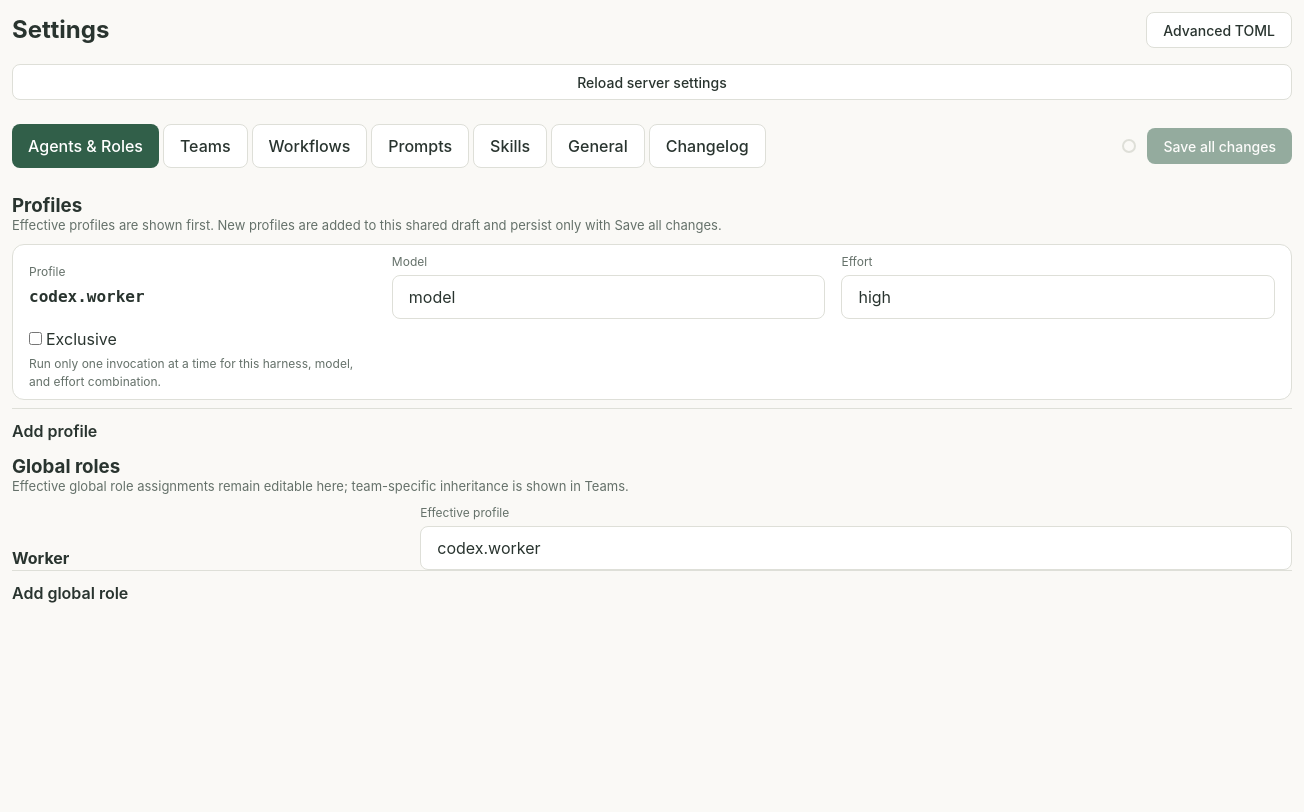
Test: GlobalSettings › keeps an unsaved zero visible across workflow selection and preview refresh
This screenshot has width=1304, height=812.
Click the tab "Workflows": (309,146) 252,124 -> 367,168
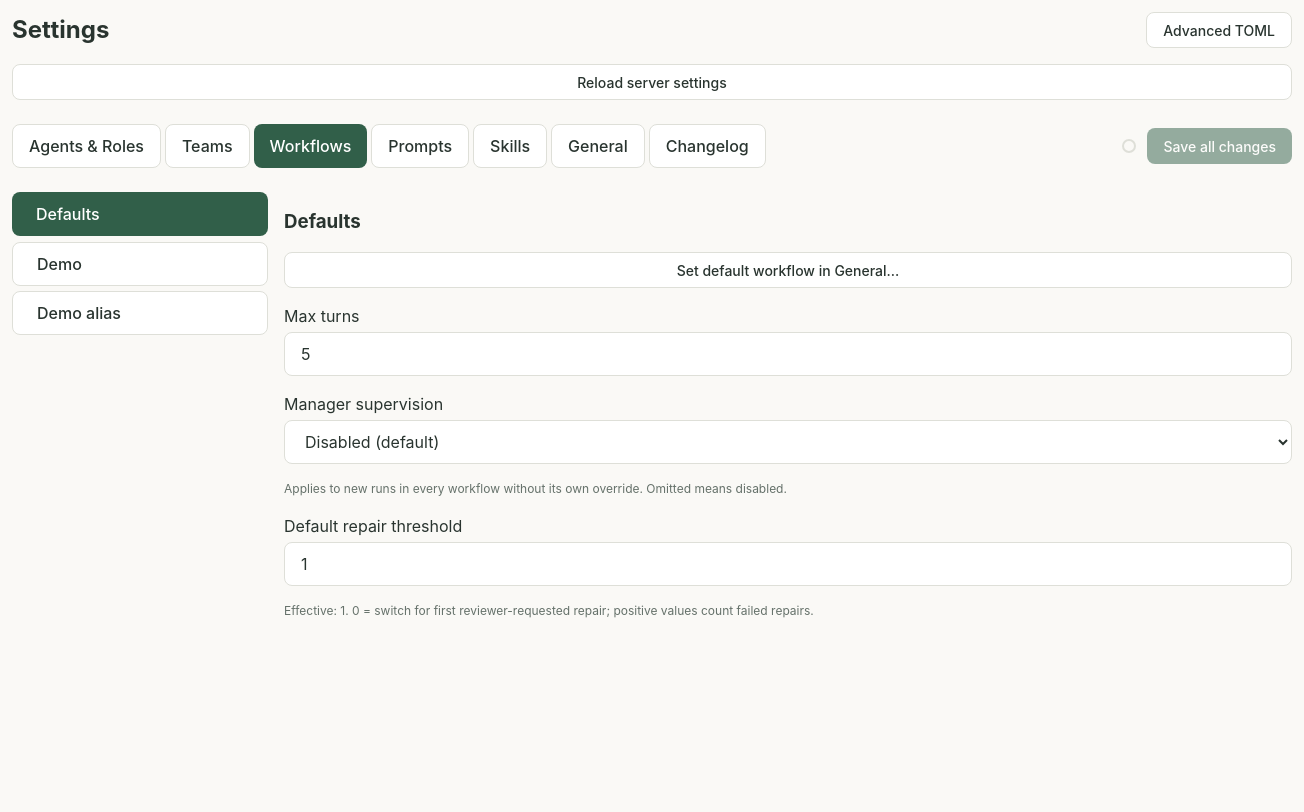
Click the button "Demo": (140,264) 12,242 -> 268,286
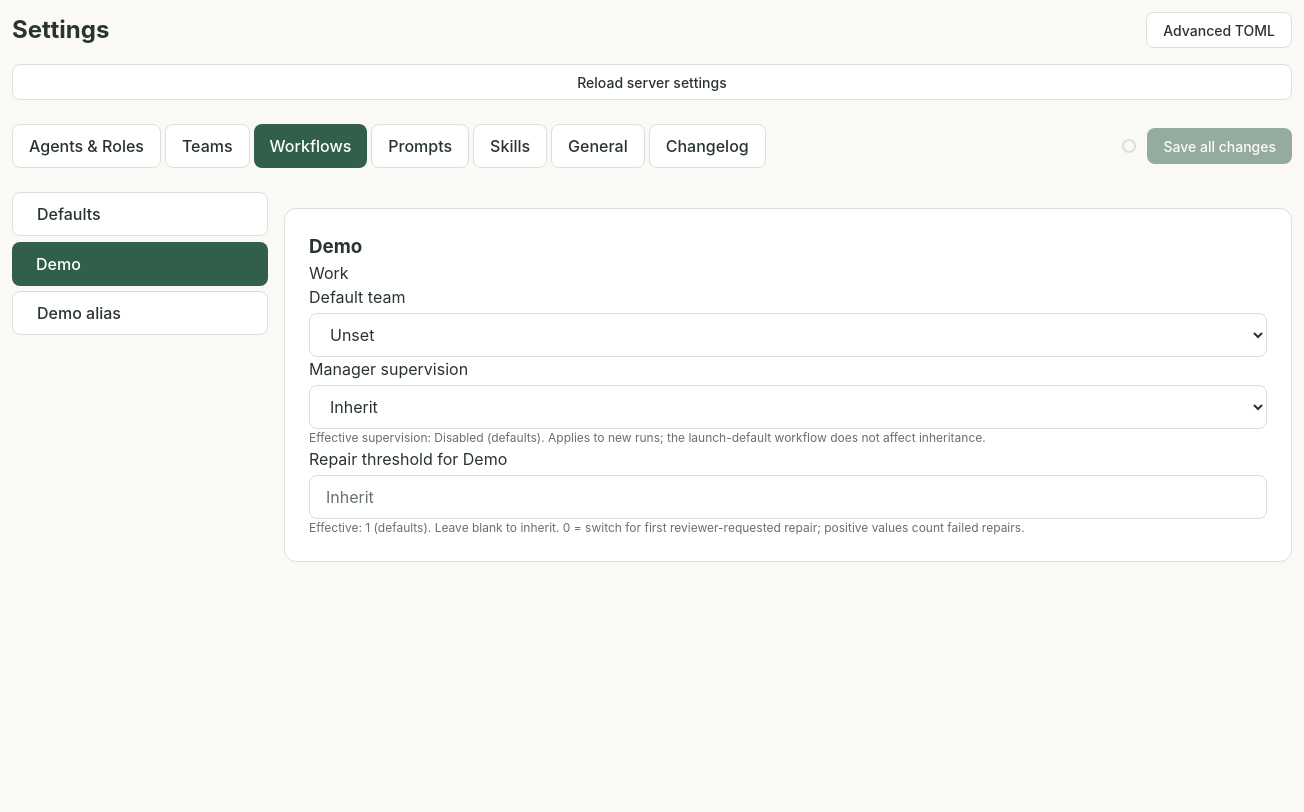
In the number field labelled "Repair threshold for Demo": (788,497) 309,475 -> 1267,519, type "0"
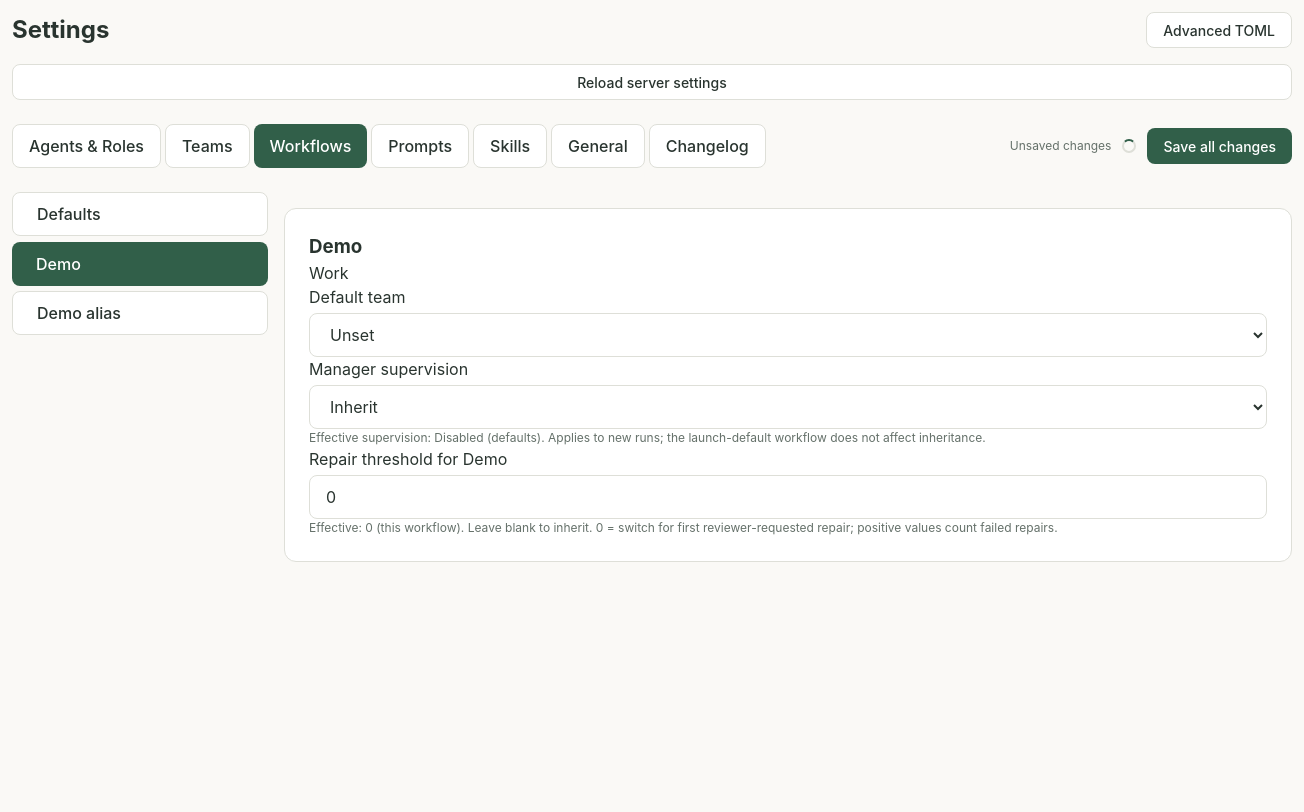
Click the button "Demo alias": (140,313) 12,291 -> 268,335
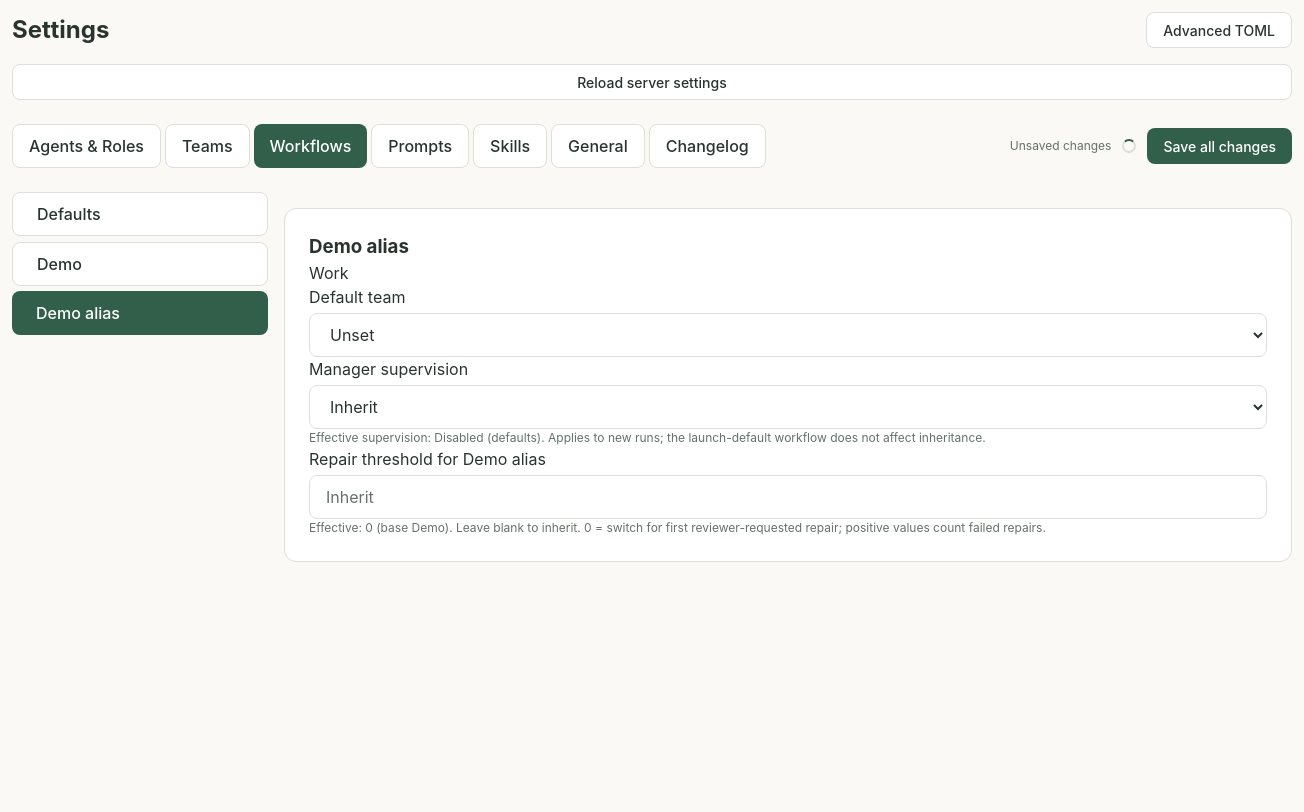
Expected: the text "Effective: 0 (base Demo)" is shown, 309,520 -> 1046,535
Click the button "Demo": (140,264) 12,242 -> 268,286
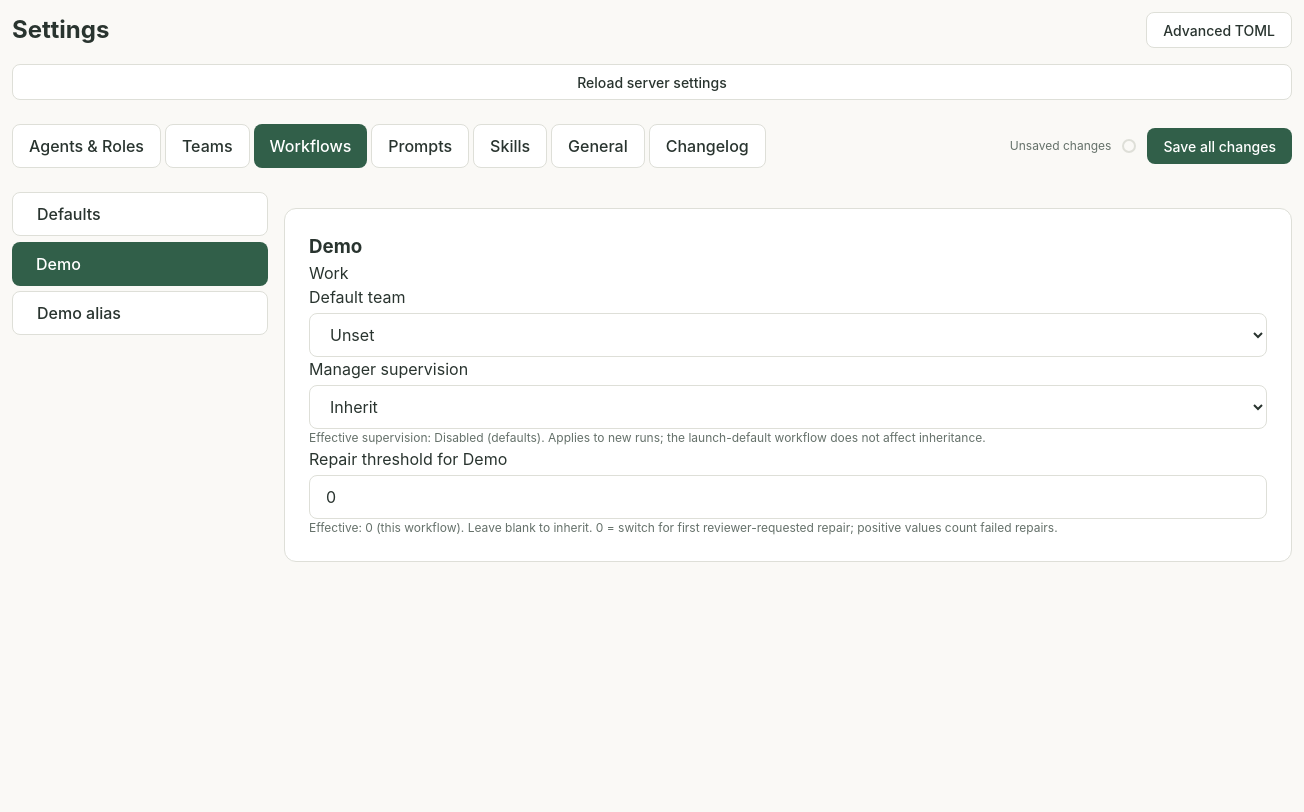
Expected: the number field labelled "Repair threshold for Demo" holds "0", 309,475 -> 1267,519
Expected: the text "Effective: 0 (this workflow)" is shown, 309,520 -> 1058,535
